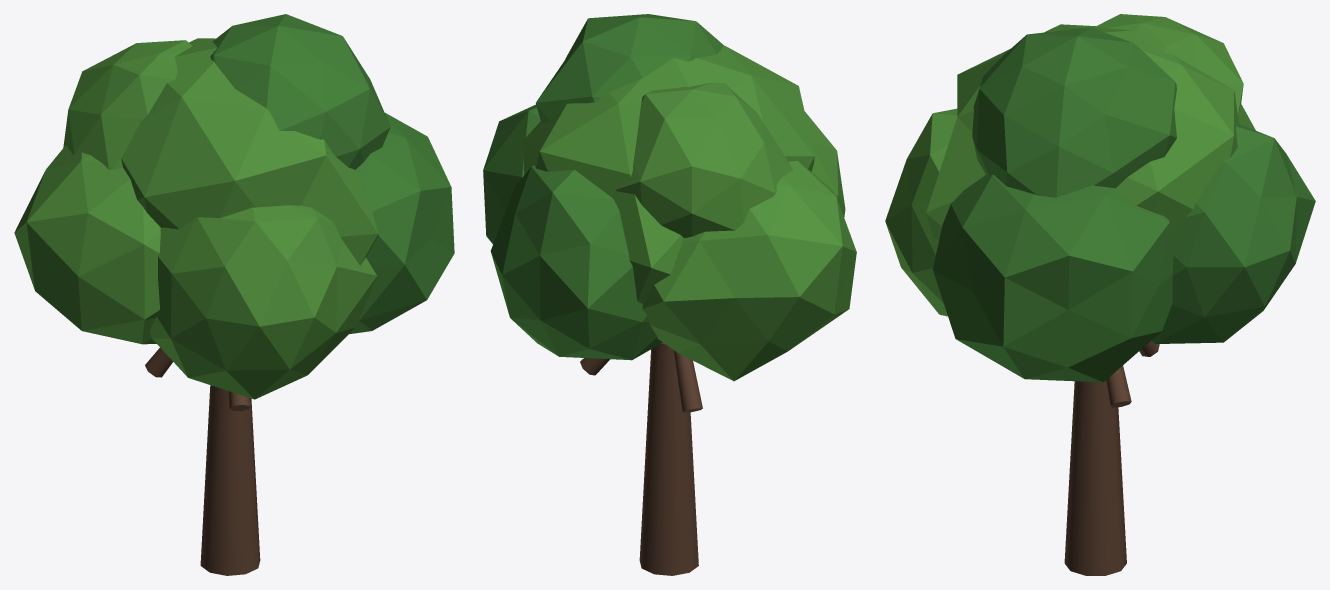
Rendered from tree_oak_01.glb.
The picture shows the model from 3 angles, left to right: view 1: azimuth 30°, elevation 25°; view 2: azimuth 150°, elevation 25°; view 3: azimuth 270°, elevation 25°; orthographic projection. The views are drawn at different scales.
Parts seen in each view (by area): view 1: tree_oak_01_foliage (×2), tree_oak_01_bark; view 2: tree_oak_01_foliage (×2), tree_oak_01_bark; view 3: tree_oak_01_foliage (×2), tree_oak_01_bark.
Part boxes in pixels (left/top/right/bottom): tree_oak_01_foliage (×2): left=14, top=14, right=454, bottom=399; tree_oak_01_bark: left=145, top=347, right=260, bottom=575; tree_oak_01_foliage (×2): left=483, top=14, right=856, bottom=381; tree_oak_01_bark: left=580, top=342, right=702, bottom=575; tree_oak_01_foliage (×2): left=885, top=14, right=1315, bottom=382; tree_oak_01_bark: left=1064, top=341, right=1159, bottom=575.
Size of the model in its own units: 4.81 by 6.57 by 4.69.
